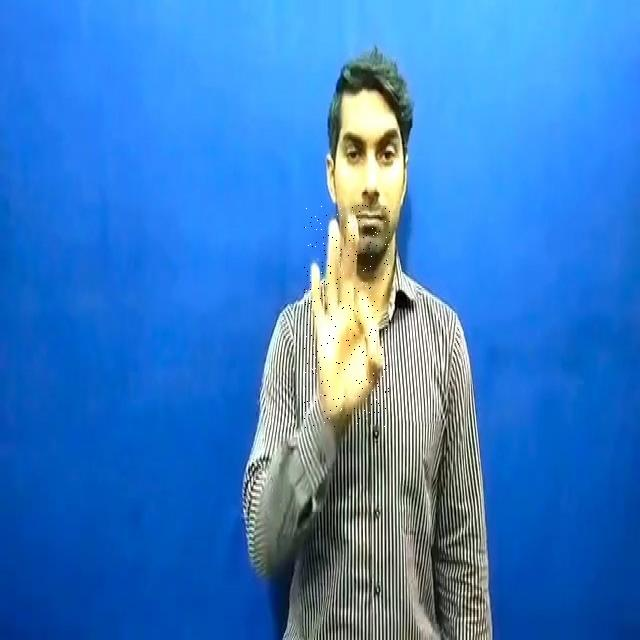french fries: (304, 206, 390, 430)
